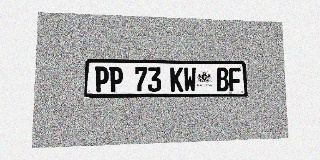3: (148, 67, 161, 92)
7: (134, 67, 147, 92)
B: (216, 68, 229, 91)
F: (229, 68, 241, 91)
K: (170, 67, 183, 92)
P: (94, 66, 109, 92), (109, 67, 123, 92)
W: (183, 67, 196, 92)
